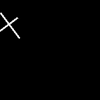single_crochet: (0, 13, 19, 37)
